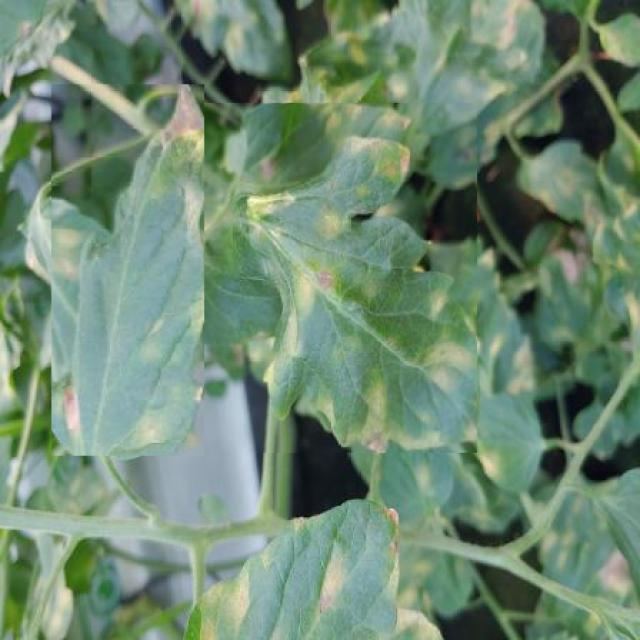Leaf Mold: (194, 103, 477, 453), (52, 85, 205, 456)
